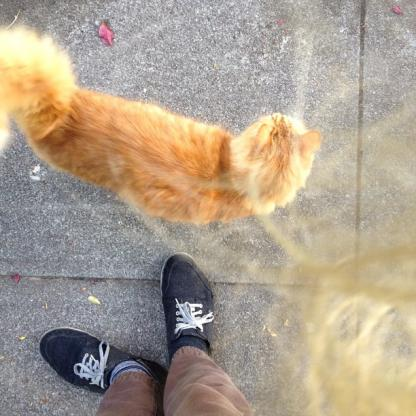Target: (0, 18, 324, 235)
